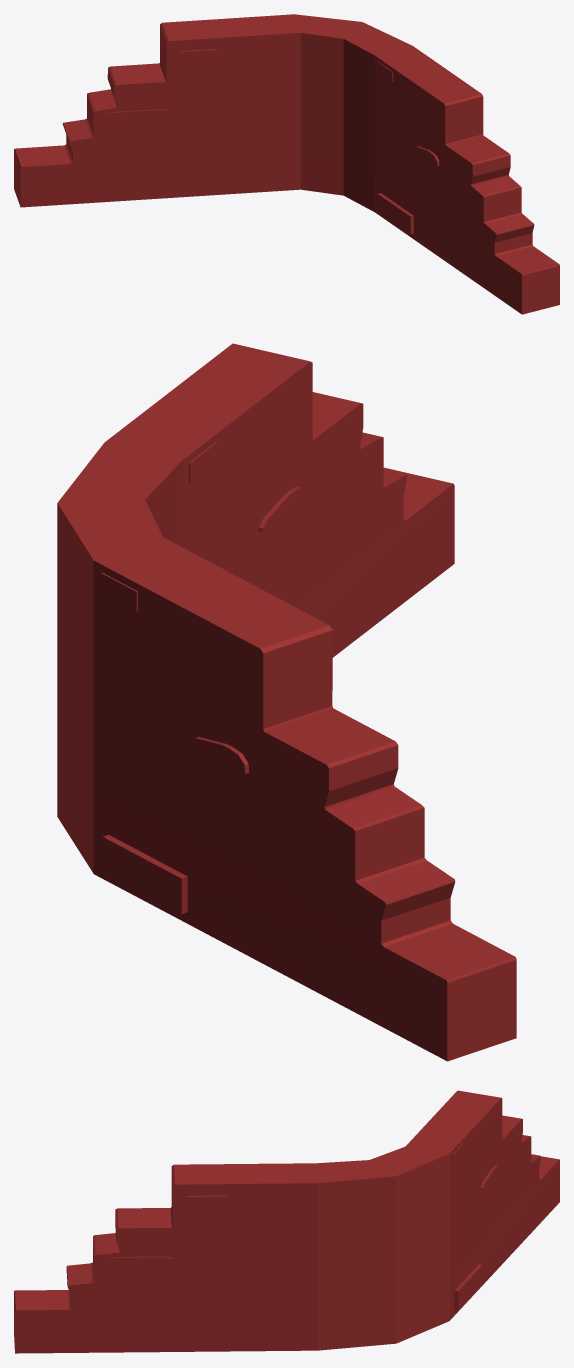
File: SM_C_WallCurved_01.fbx
3 renders of one model, top to bottom at view 1: azimuth 30°, elevation 25°; view 2: azimuth 150°, elevation 25°; view 3: azimuth 270°, elevation 25°, orthographic. The views are drawn at different scales.
Parts seen in each view (by area): view 1: SM_C_WallCurved_01; view 2: SM_C_WallCurved_01; view 3: SM_C_WallCurved_01.
Part boxes in pixels (left/top/right/bottom): SM_C_WallCurved_01: left=14, top=14, right=559, bottom=314; SM_C_WallCurved_01: left=57, top=343, right=516, bottom=1061; SM_C_WallCurved_01: left=14, top=1090, right=559, bottom=1353.
Size of the model in its own units: 991 by 487 by 1441.
